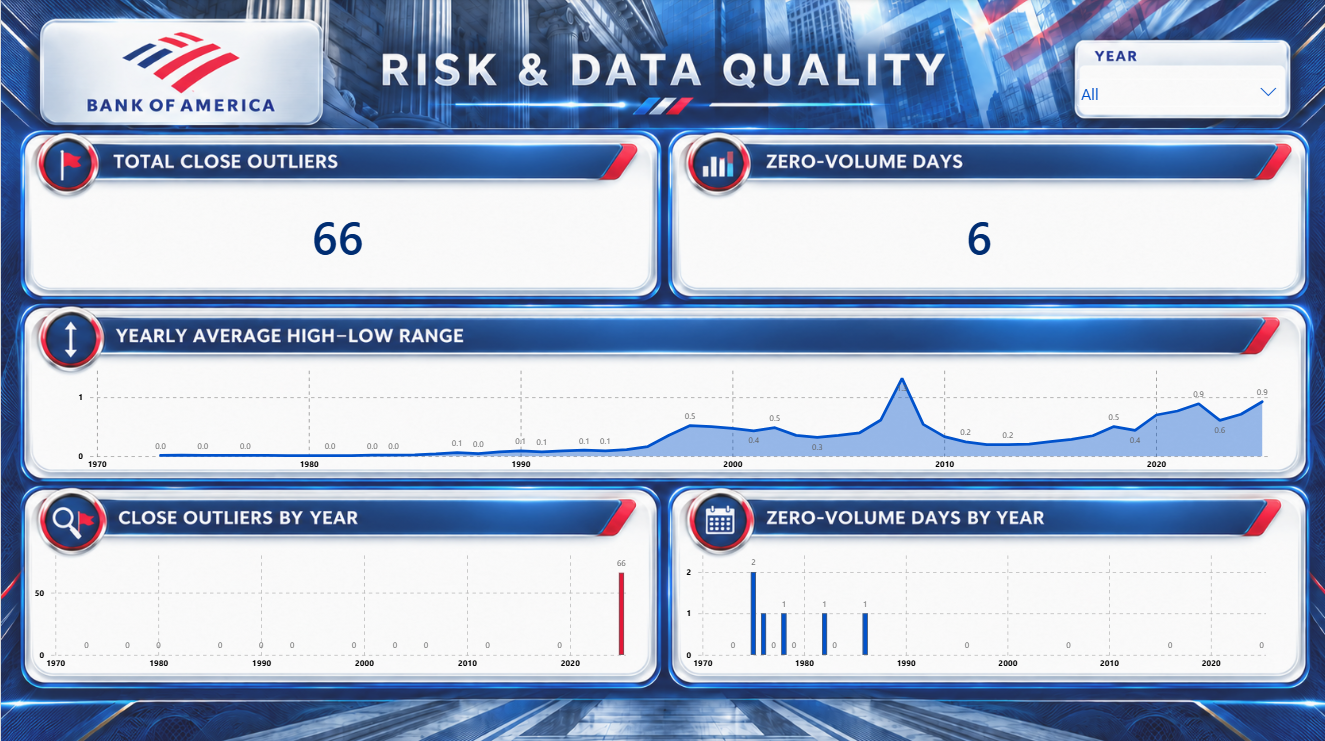

What the dashboard file says about the page in this screenshot:
{"tool":"powerbi","page":{"name":"Risk & Data Quality","canvas":[1920,1080],"ordinal":1},"visuals":[{"type":"slicer","fields":{"Values":["BAC.Year"]},"box":[1552,112,304,80],"z":0},{"type":"cardVisual","fields":{"Data":["BAC.Total Close Outliers"]},"box":[80,272,816,144],"z":1000},{"type":"cardVisual","fields":{"Data":["BAC.Zero-Volume Days"]},"box":[1008,272,816,144],"z":2000},{"type":"lineChart","fields":{"Category":["BAC.Year"],"Y":["BAC.Average High-Low Range"]},"box":[96,512,1760,192],"z":3000},{"type":"clusteredColumnChart","fields":{"Category":["BAC.Year"],"Y":["BAC.Total Close Outliers"]},"box":[32,784,896,208],"z":3001},{"type":"clusteredColumnChart","fields":{"Category":["BAC.Year"],"Y":["BAC.Zero-Volume Days"]},"box":[976,784,880,208],"z":3002}]}

Visuals, with their boxes in screenshot pixels (x1, y1, x2, y2), scaled from the page's 1920x1080 canvas onto the 1325x741 screenshot:
slicer - BAC.Year: bbox=(1071, 77, 1281, 132)
cardVisual - BAC.Total Close Outliers: bbox=(55, 187, 618, 285)
cardVisual - BAC.Zero-Volume Days: bbox=(696, 187, 1259, 285)
lineChart - BAC.Year x BAC.Average High-Low Range: bbox=(66, 351, 1281, 483)
clusteredColumnChart - BAC.Year x BAC.Total Close Outliers: bbox=(22, 538, 640, 681)
clusteredColumnChart - BAC.Year x BAC.Zero-Volume Days: bbox=(674, 538, 1281, 681)
